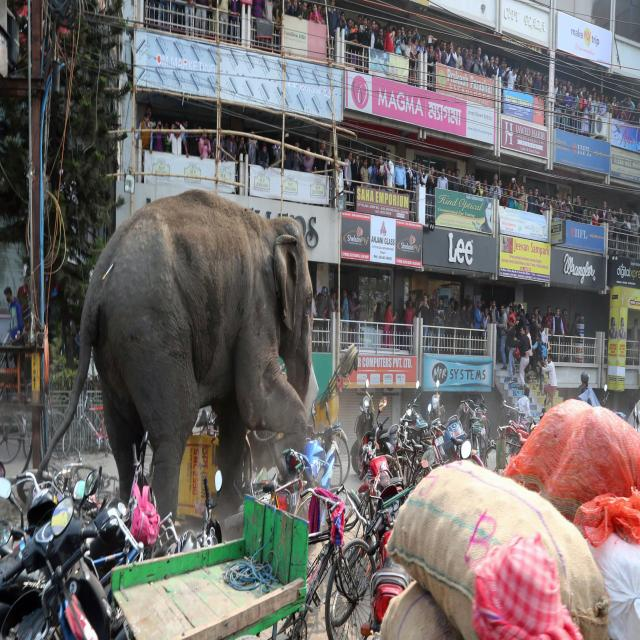Elephant: (58, 177, 323, 538)
